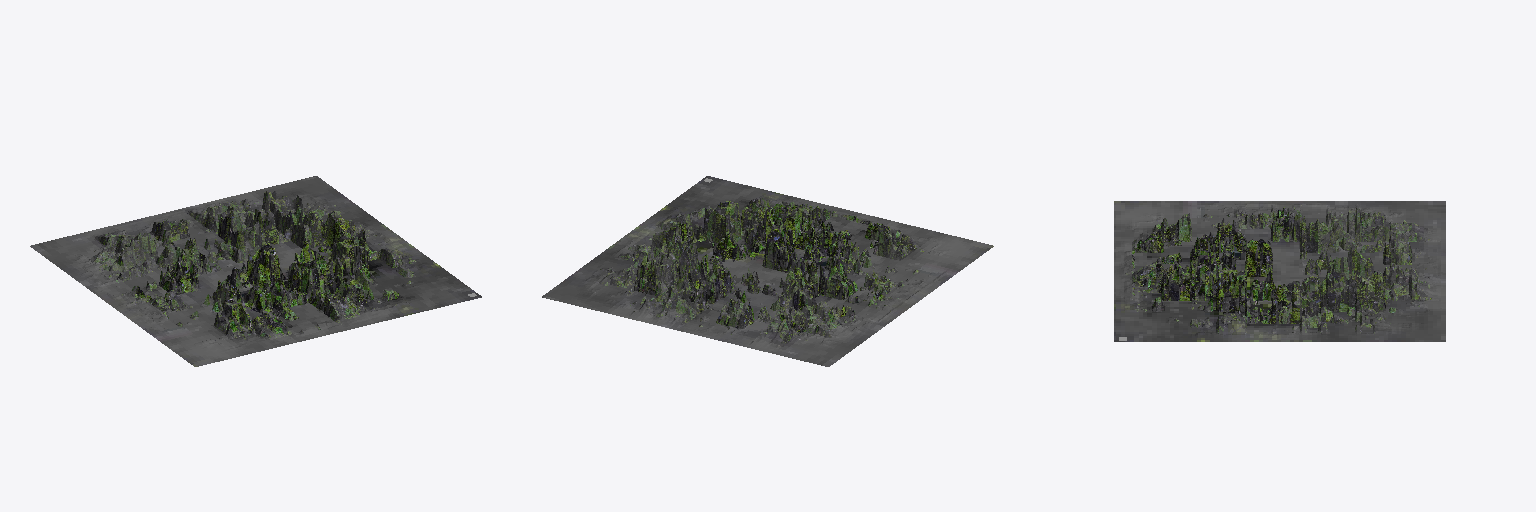
The picture shows the model from 3 angles: view 1: azimuth 30°, elevation 25°; view 2: azimuth 150°, elevation 25°; view 3: azimuth 270°, elevation 25°; orthographic projection.
Parts seen in each view (by area): view 1: Landscape.004; view 2: Landscape.004; view 3: Landscape.004.
Boxes of the visible parts, box(x1,y1,x2,y2) form: Landscape.004: box(30, 176, 481, 366); Landscape.004: box(542, 176, 993, 366); Landscape.004: box(1114, 201, 1445, 341).
Size of the model in its own units: 7.98 by 0.8249 by 7.98.
2 materials, 1 textured.